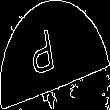P_S: (40, 25, 70, 85)
